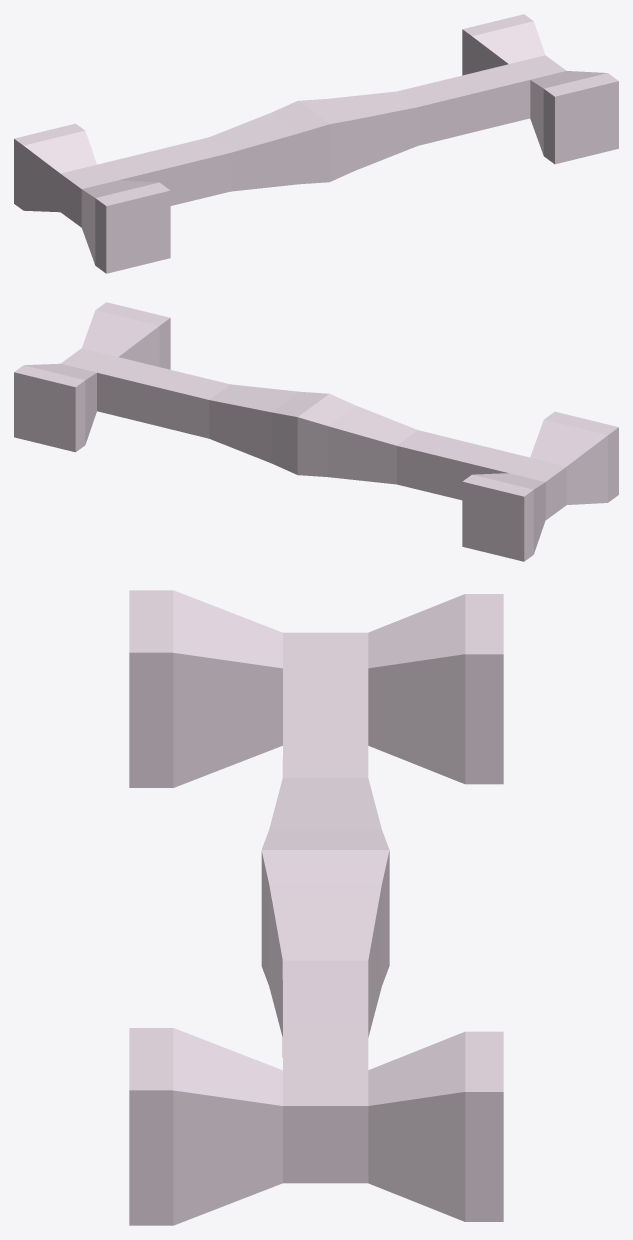
File: third2.fbx
3 renders of one model, top to bottom at view 1: azimuth 30°, elevation 25°; view 2: azimuth 150°, elevation 25°; view 3: azimuth 270°, elevation 25°, orthographic. The views are drawn at different scales.
Parts seen in each view (by area): view 1: Cube.012; view 2: Cube.012; view 3: Cube.012.
Part boxes in pixels (<box>): Cube.012: <box>14,14,618,273</box>; Cube.012: <box>14,302,618,561</box>; Cube.012: <box>129,590,503,1225</box>.
Size of the model in its own units: 126 by 15.84 by 39.74.
